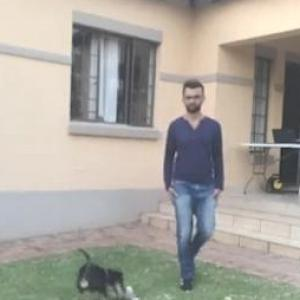follow: (161, 79, 228, 288)
